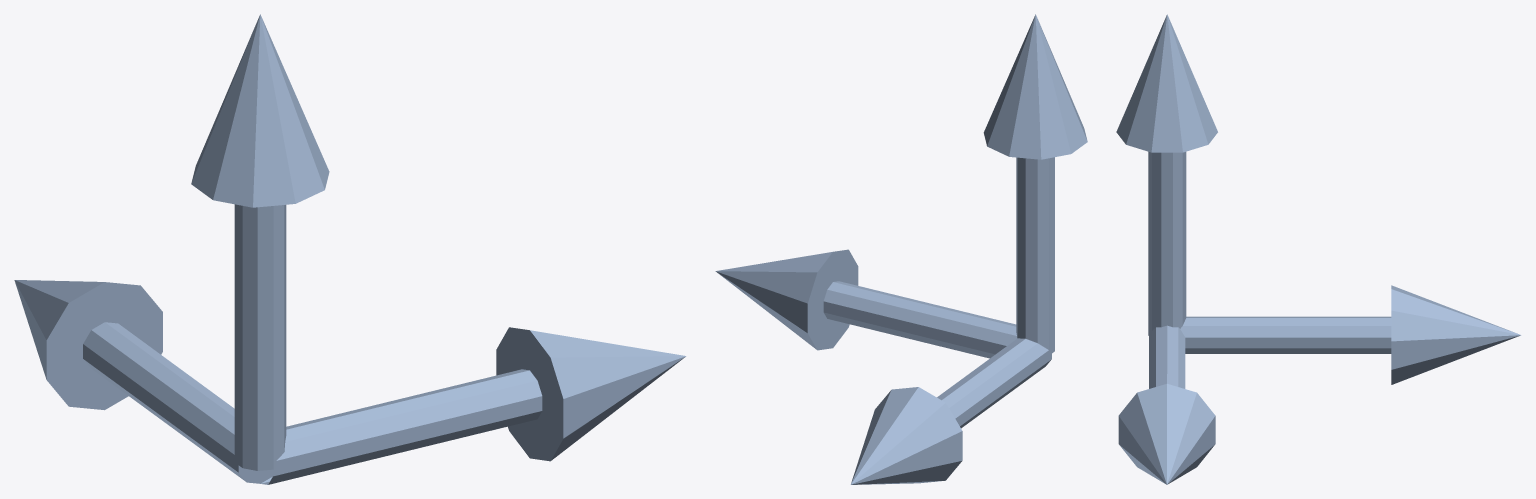
The model's file is AxisArrows.dae.
3 renders of one model, left to right at view 1: azimuth 30°, elevation 25°; view 2: azimuth 150°, elevation 25°; view 3: azimuth 270°, elevation 25°, orthographic. The views are drawn at different scales.
Parts seen in each view (by area): view 1: Arrow Z Axis, Arrow X Axis, Arrow Y Axis; view 2: Arrow Z Axis, Arrow X Axis, Arrow Y Axis; view 3: Arrow Z Axis, Arrow Y Axis, Arrow X Axis.
Boxes of the visible parts, x1=… form: Arrow Z Axis: x1=191, y1=14, x2=329, y2=470; Arrow X Axis: x1=260, y1=327, x2=686, y2=484; Arrow Y Axis: x1=14, y1=280, x2=272, y2=483; Arrow Z Axis: x1=983, y1=14, x2=1087, y2=355; Arrow X Axis: x1=715, y1=249, x2=1016, y2=358; Arrow Y Axis: x1=850, y1=338, x2=1051, y2=484; Arrow Z Axis: x1=1116, y1=14, x2=1217, y2=335; Arrow Y Axis: x1=1180, y1=285, x2=1521, y2=384; Arrow X Axis: x1=1118, y1=325, x2=1215, y2=484.
Size of the model in its own units: 6.37 by 6.41 by 6.41.
